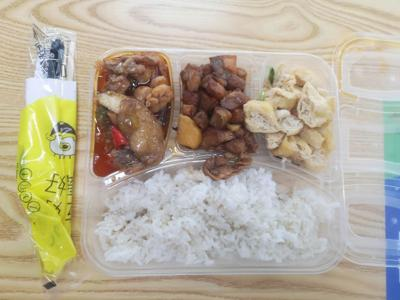jrtd: (176, 53, 255, 170)
rice: (97, 174, 335, 270)
